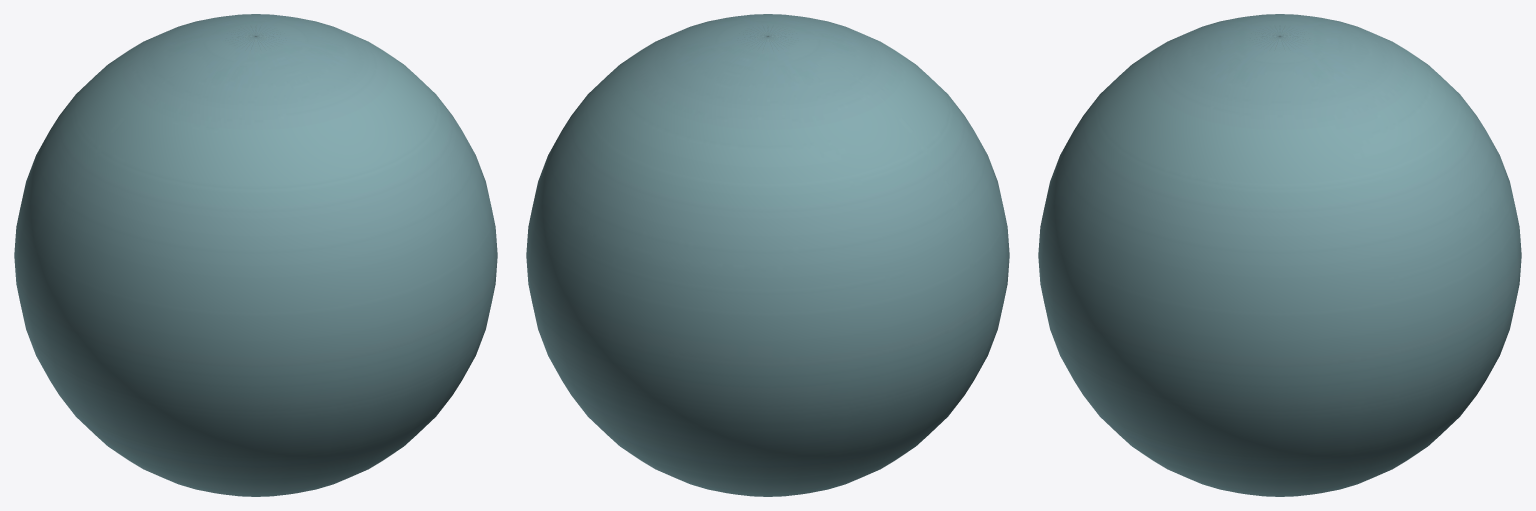
The model's file is uranus.obj.
3 renders of one model, left to right at view 1: azimuth 30°, elevation 25°; view 2: azimuth 150°, elevation 25°; view 3: azimuth 270°, elevation 25°, orthographic.
Parts seen in each view (by area): view 1: uranus_Sphere.006; view 2: uranus_Sphere.006; view 3: uranus_Sphere.006.
Part boxes in pixels (x1,y1,x2,y2): uranus_Sphere.006: (14,14,497,496); uranus_Sphere.006: (526,14,1009,496); uranus_Sphere.006: (1038,14,1521,496).
Size of the model in its own units: 0.5794 by 0.5794 by 0.5794.
1 material, 1 textured.
